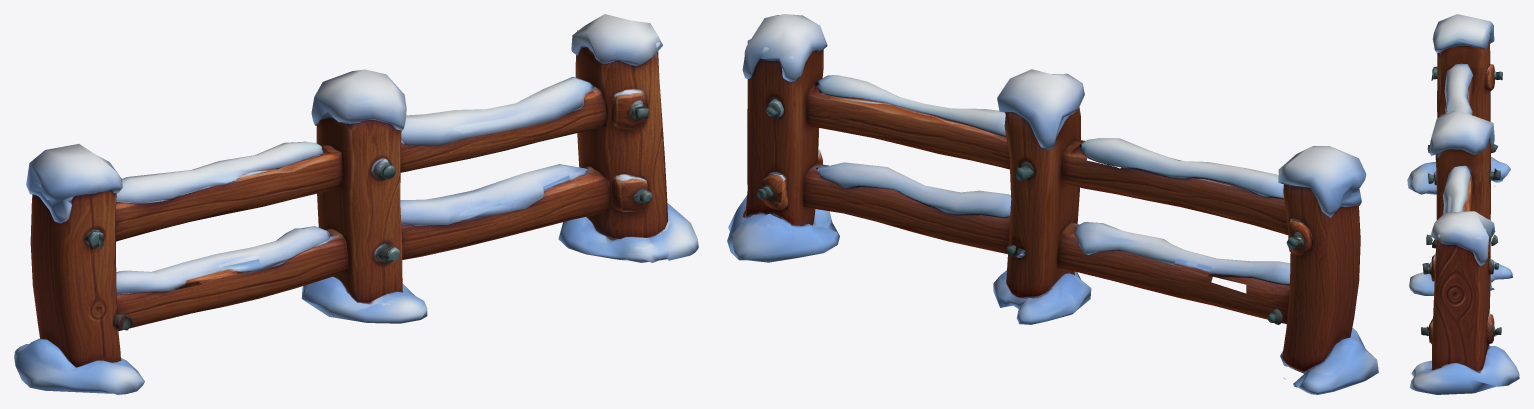
File: snow-wooden-fence.glb
3 views of the same model, side by side, from view 1: azimuth 30°, elevation 25°; view 2: azimuth 150°, elevation 25°; view 3: azimuth 270°, elevation 25° (orthographic). The views are drawn at different scales.
Parts seen in each view (by area): view 1: tripo_node_aaaabbec; view 2: tripo_node_aaaabbec; view 3: tripo_node_aaaabbec.
Part boxes in pixels (left/top/right/bottom): tripo_node_aaaabbec: left=14, top=14, right=698, bottom=394; tripo_node_aaaabbec: left=727, top=14, right=1378, bottom=394; tripo_node_aaaabbec: left=1407, top=14, right=1519, bottom=394.
Size of the model in its own units: 0.9934 by 0.3327 by 0.2009.
1 material, 1 textured.
